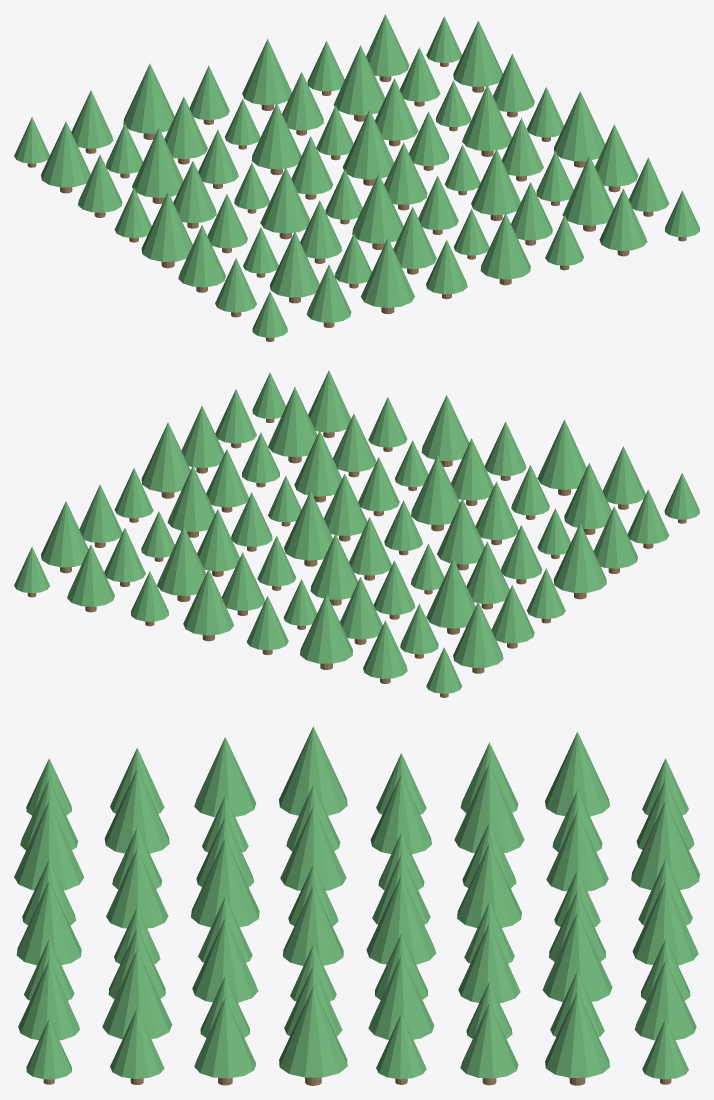
The model's file is forest.glb.
The picture shows the model from 3 angles, top to bottom: view 1: azimuth 30°, elevation 25°; view 2: azimuth 150°, elevation 25°; view 3: azimuth 270°, elevation 25°; orthographic projection. The views are drawn at different scales.
Visible parts, largest first — view 1: tree (×64); view 2: tree (×64); view 3: tree (×64).
Part boxes in pixels (bbox=[...]): tree (×64): bbox=[14, 14, 699, 341]; tree (×64): bbox=[14, 370, 699, 697]; tree (×64): bbox=[14, 726, 699, 1085].
Size of the model in its own units: 11.67 by 1.8 by 11.69.
